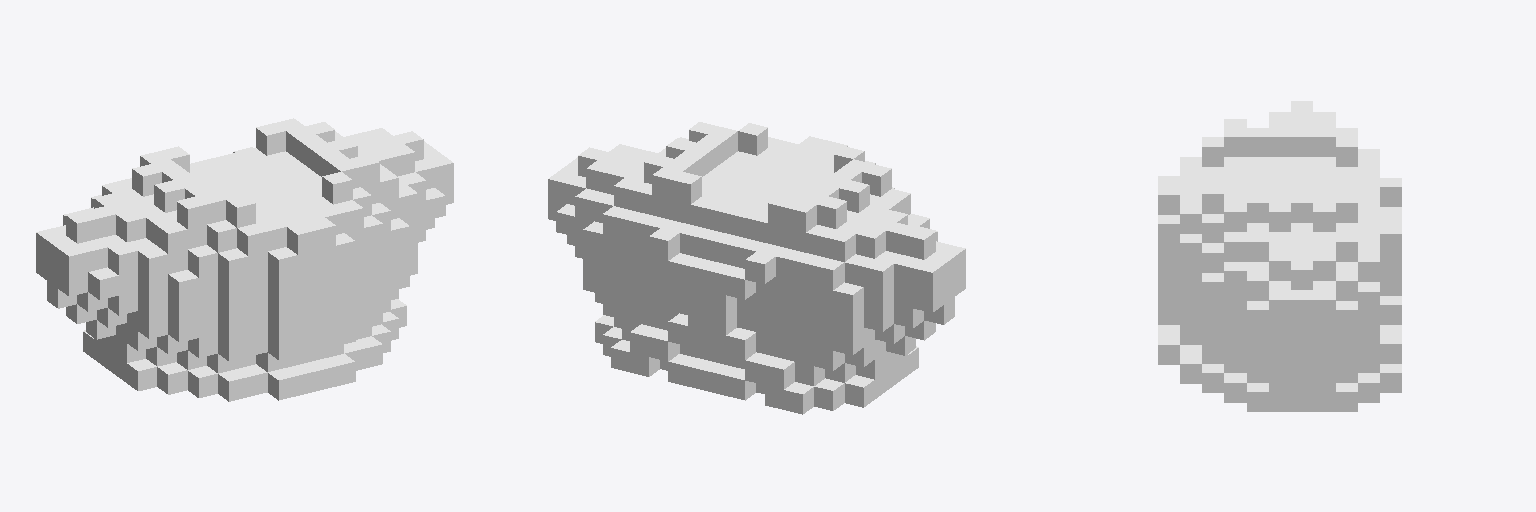
Rendered from alice__body.obj.
3 renders of one model, left to right at view 1: azimuth 30°, elevation 25°; view 2: azimuth 150°, elevation 25°; view 3: azimuth 270°, elevation 25°, orthographic.
Parts seen in each view (by area): view 1: object 1; view 2: object 1; view 3: object 1.
Part boxes in pixels (x1,y1,x2,y2): object 1: (36,118,453,401); object 1: (548,122,965,414); object 1: (1158,101,1401,411).
Bounding box in the file's own units: 2 × 0.9 × 1.1.